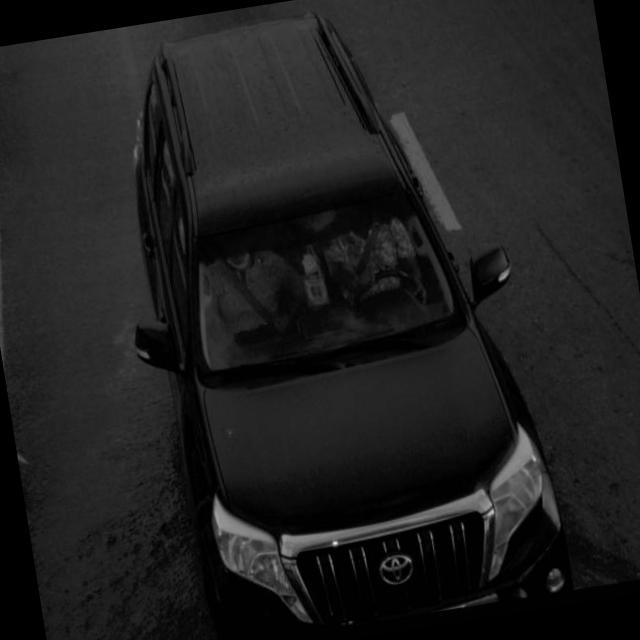person_with_seatbelt: (304, 180, 444, 357)
